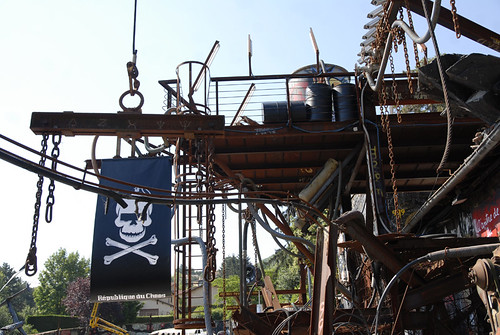building: (41, 66, 500, 335)
flag: (88, 156, 175, 299)
sky: (1, 1, 341, 64)
